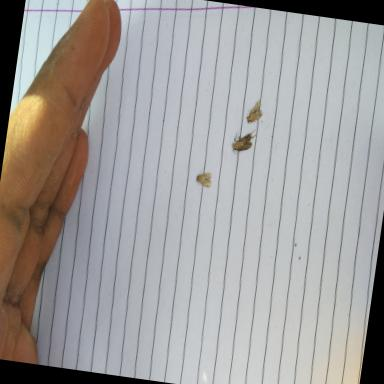pbw: (230, 126, 257, 156), (246, 98, 264, 125), (194, 168, 212, 188)
